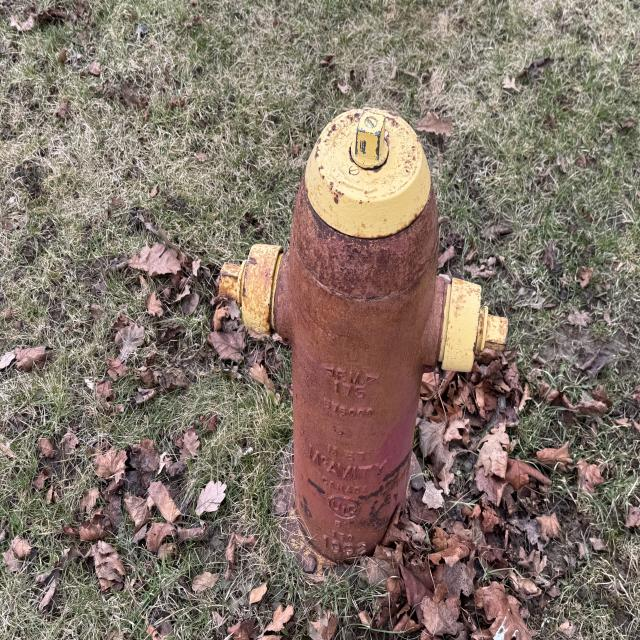Fire hydrant: (214, 105, 511, 585)
